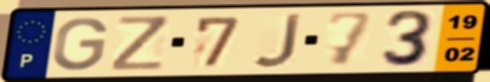3: (379, 8, 438, 69)
7: (324, 10, 375, 69), (194, 15, 241, 70)
G: (50, 15, 111, 73)
J: (250, 11, 305, 70)
Z: (109, 14, 171, 73)
